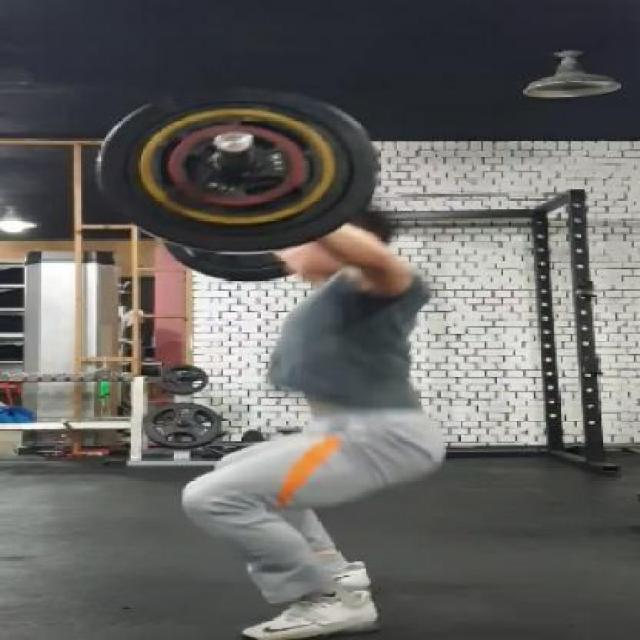Barbell: (212, 128, 258, 154)
